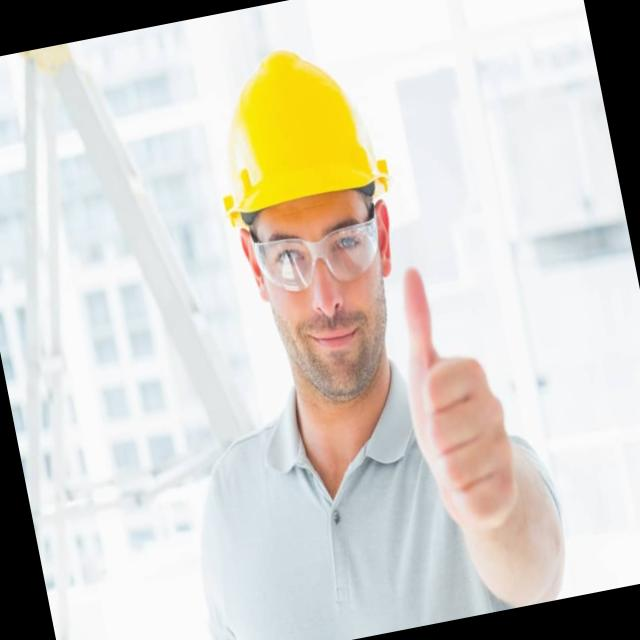goggles: (238, 202, 397, 306)
helmet: (188, 18, 408, 236)
no-vest: (170, 336, 535, 640)
